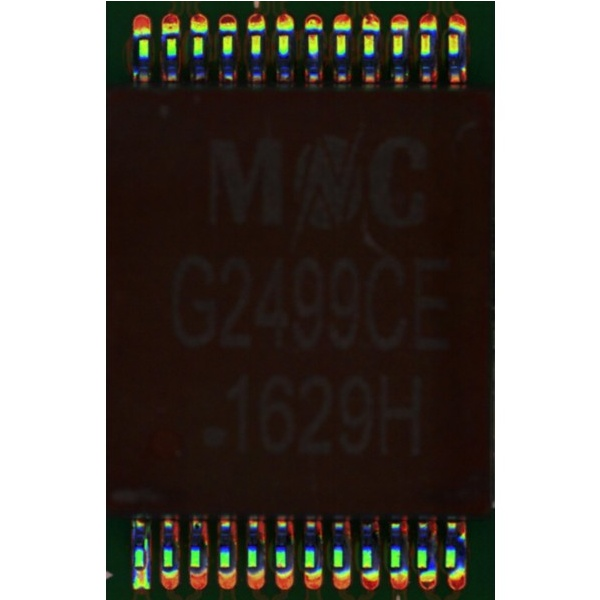Bad_podu: (134, 560, 142, 577)
Bad_qiaojiao: (142, 528, 148, 566)
